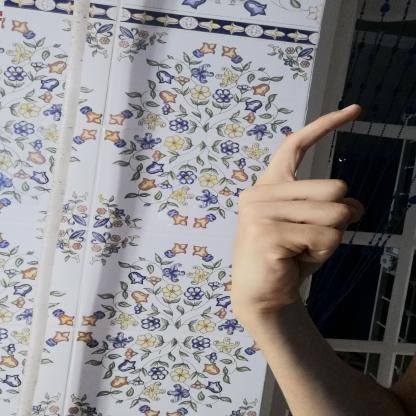RAA: (218, 92, 374, 322)
